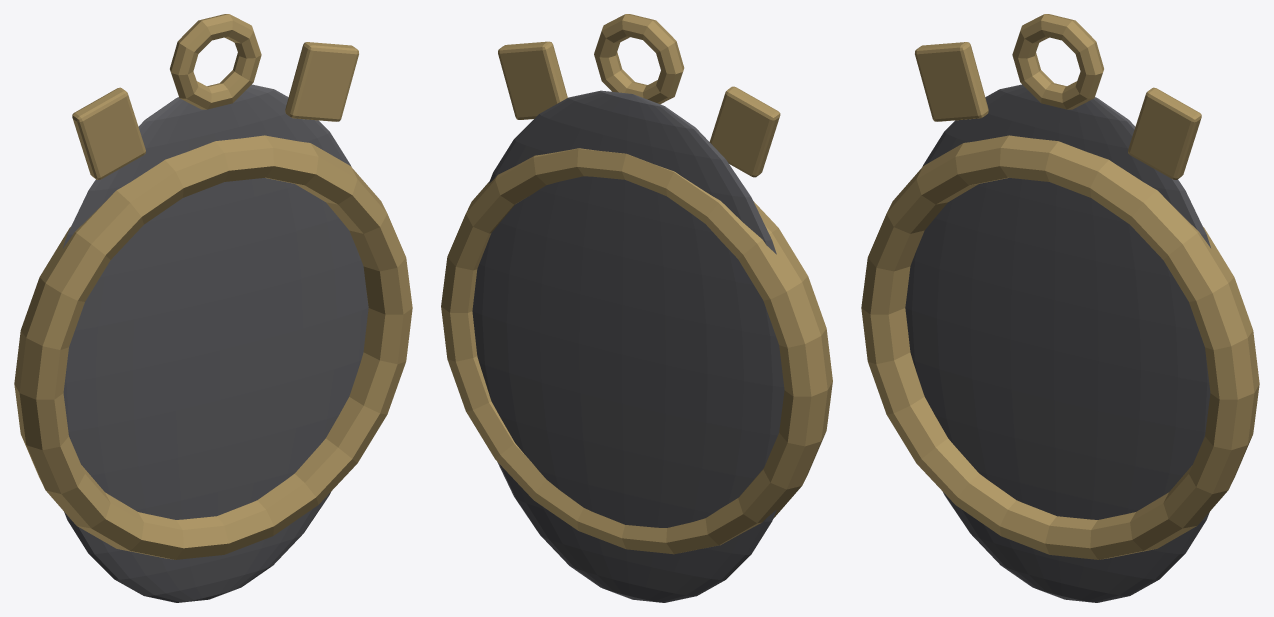
3 views of the same model, side by side, from view 1: azimuth 30°, elevation 25°; view 2: azimuth 150°, elevation 25°; view 3: azimuth 330°, elevation 25° (orthographic).
Visible parts, largest first — view 1: ovalMirror; view 2: ovalMirror; view 3: ovalMirror.
Boxes of the visible parts, bbox=[...] form: ovalMirror: bbox=[14, 14, 412, 602]; ovalMirror: bbox=[441, 14, 832, 602]; ovalMirror: bbox=[861, 14, 1259, 602].
Bounding box in the file's own units: 0.5116 × 0.7401 × 0.0707.
